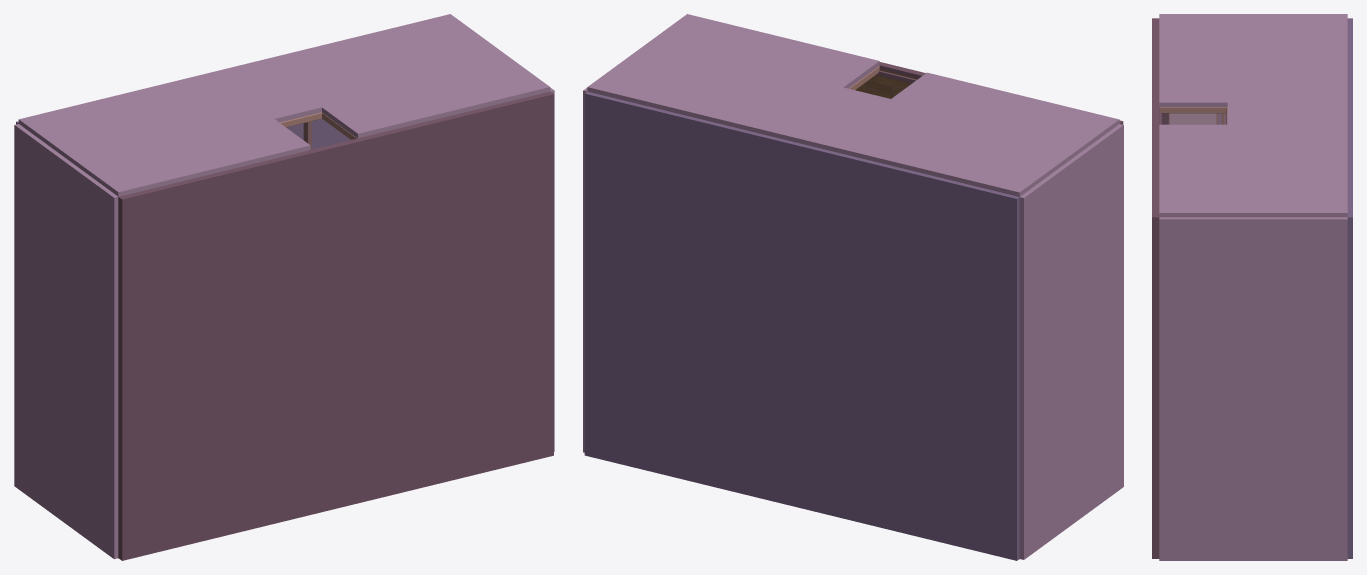
File: moonroom-architecture-polyhaven-wood-floor-test.glb
3 renders of one model, left to right at view 1: azimuth 30°, elevation 25°; view 2: azimuth 150°, elevation 25°; view 3: azimuth 270°, elevation 25°, orthographic. The views are drawn at different scales.
Parts seen in each view (by area): view 1: ARCH_Floor_Substrate, ARCH_West_Wall, ARCH_Entry_Wall_West, ARCH_Entry_Wall_East, ARCH_Entry_Wall_Above_Door, ARCH_Ceiling_Slab; view 2: ARCH_Ceiling_Slab, ARCH_West_Wall, ARCH_Entry_Wall_West, ARCH_Entry_Wall_East, ARCH_Entry_Wall_Above_Door, ARCH_Oak_Plank_Field, ARCH_East_Wall; view 3: ARCH_East_Wall, ARCH_Entry_Wall_East, ARCH_Entry_Wall_West, ARCH_Floor_Substrate, ARCH_Ceiling_Slab, ARCH_Entry_Wall_Above_Door, ARCH_West_Panel_3.75, ARCH_Entry_Door_Jamb_West.
Part boxes in pixels (x1,y1,x2,y2): ARCH_Floor_Substrate: [118, 91, 553, 560]; ARCH_West_Wall: [14, 124, 118, 559]; ARCH_Entry_Wall_West: [18, 72, 310, 196]; ARCH_Entry_Wall_East: [259, 14, 550, 138]; ARCH_Entry_Wall_Above_Door: [211, 61, 321, 122]; ARCH_Ceiling_Slab: [16, 119, 350, 149]; ARCH_Ceiling_Slab: [584, 91, 1019, 560]; ARCH_West_Wall: [1019, 124, 1123, 559]; ARCH_Entry_Wall_West: [827, 72, 1119, 196]; ARCH_Entry_Wall_East: [587, 14, 879, 138]; ARCH_Entry_Wall_Above_Door: [779, 87, 890, 149]; ARCH_Oak_Plank_Field: [855, 69, 918, 98]; ARCH_East_Wall: [583, 88, 587, 452]; ARCH_East_Wall: [1159, 217, 1347, 560]; ARCH_Entry_Wall_East: [1159, 124, 1347, 217]; ARCH_Entry_Wall_West: [1159, 14, 1347, 107]; ARCH_Floor_Substrate: [1152, 18, 1159, 558]; ARCH_Ceiling_Slab: [1347, 18, 1352, 558]; ARCH_Entry_Wall_Above_Door: [1227, 102, 1347, 124]; ARCH_West_Panel_3.75: [1169, 113, 1216, 124]; ARCH_Entry_Door_Jamb_West: [1159, 107, 1226, 113].
Bounding box in the file's own units: 20.4 × 16.23 × 8.52.
Materials: 14 (6 with a texture image).
